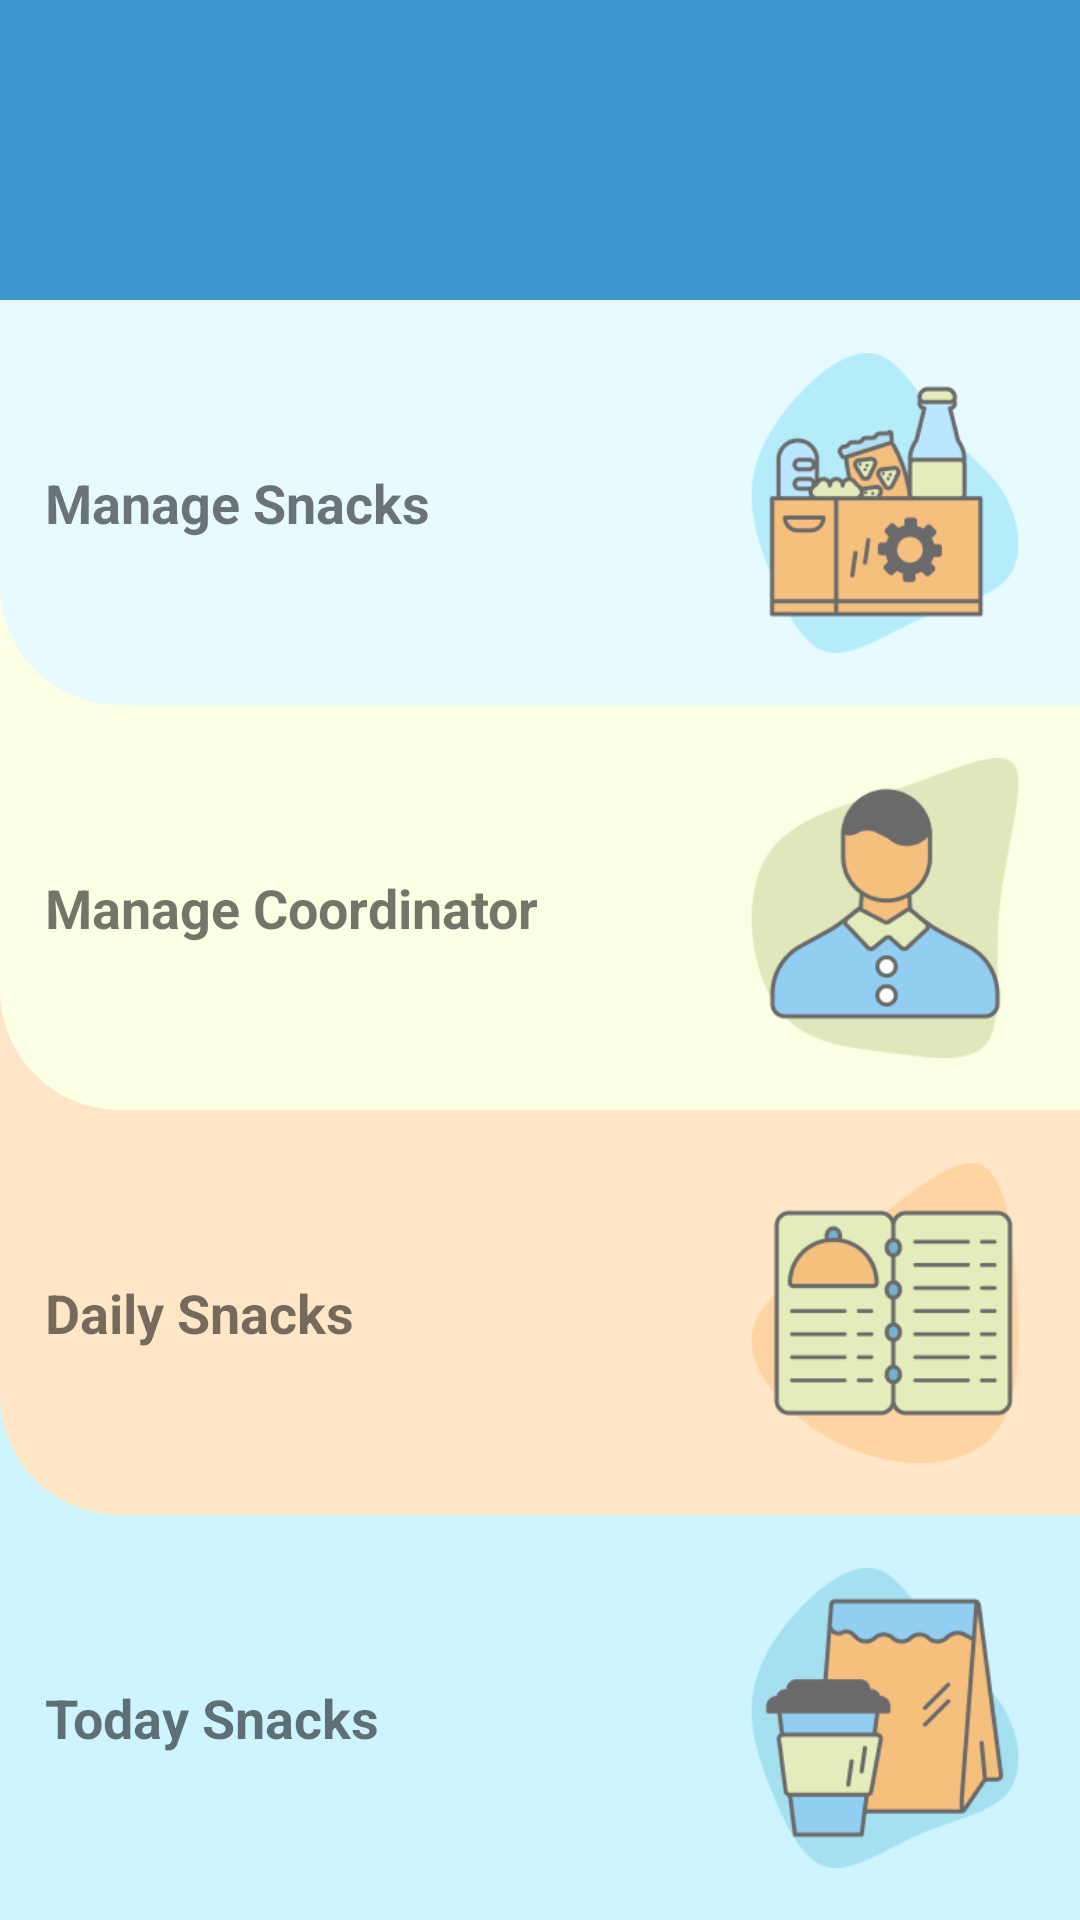

Screen size 1080×1920. Icon name, then its center in pixels as (x,y):
coordinator: (885,908)
daily snacks: (885,1313)
manage snacks: (885,503)
